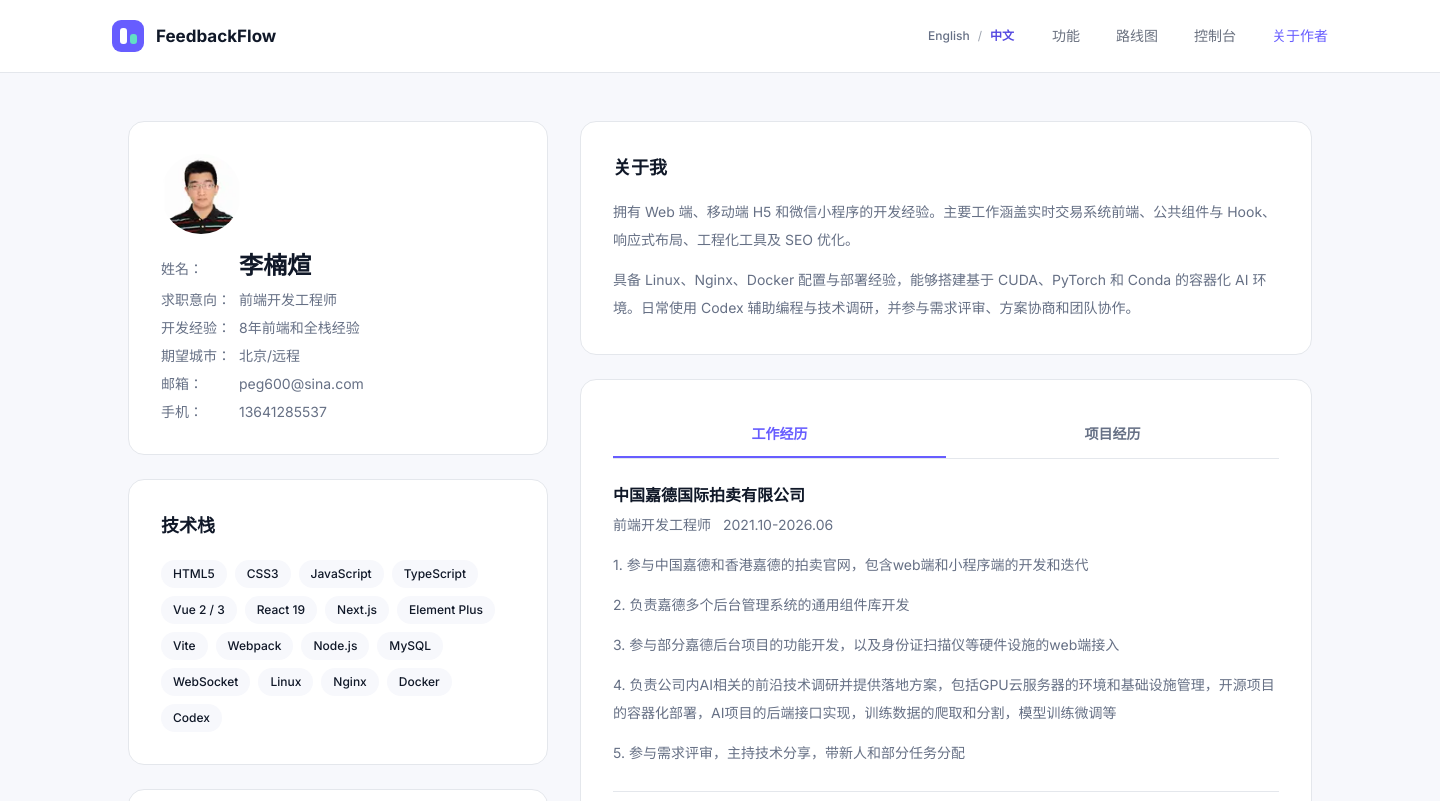
Chinese server-rendered pages › localizes profile sections while preserving names and links
Expected: the heading "李楠煊" is shown, [239,251,311,280]
Expected: the heading "关于我" is shown, [613,157,667,178]
Click the tab "项目经历". click: (1112, 435)
box: [946,412,1279,458]
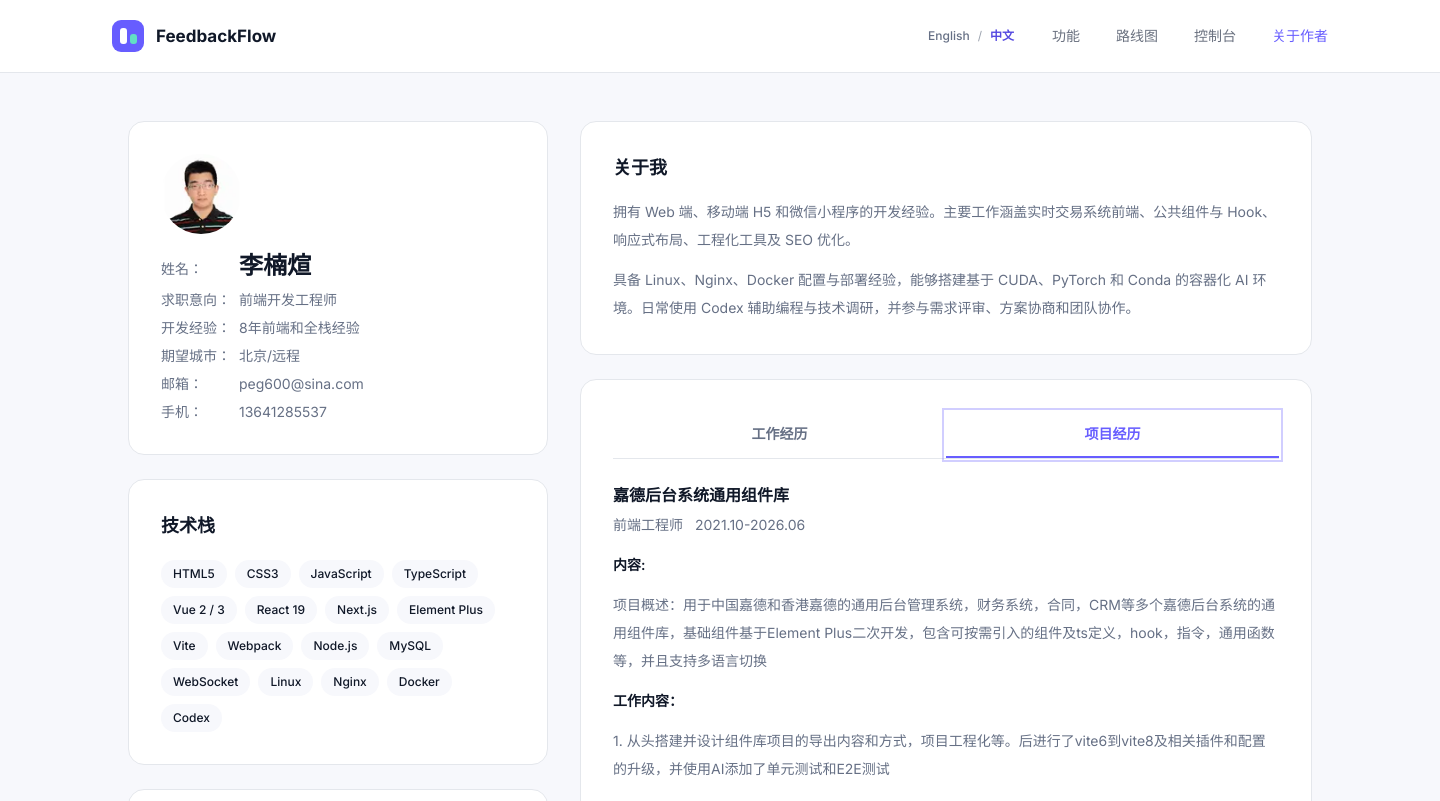
Expected: the picture named "李楠煊的头像" is shown, [161,154,241,234]
Now the heading "嘉德后台系统通用组件库" is shown, box [613,485,789,505]
